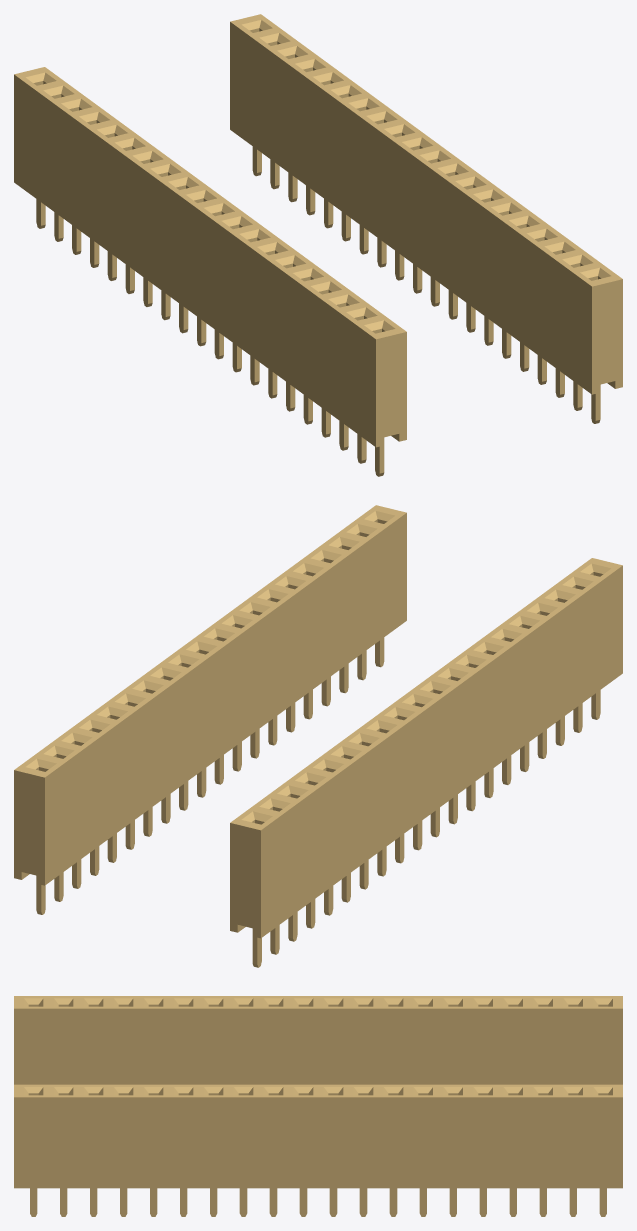
Rendered from kc-raspberrypi_pico_pinsockets_h8.50mm.glb.
3 views of the same model, one above another, from view 1: azimuth 30°, elevation 25°; view 2: azimuth 150°, elevation 25°; view 3: azimuth 270°, elevation 25° (orthographic). The views are drawn at different scales.
Visible parts, largest first — view 1: 0.75_0.5_0.25_0.9; view 2: 0.75_0.5_0.25_0.9; view 3: 0.75_0.5_0.25_0.9.
Boxes of the visible parts, box(x1,y1,x2,y2) form: 0.75_0.5_0.25_0.9: box(14, 14, 622, 476); 0.75_0.5_0.25_0.9: box(14, 505, 622, 967); 0.75_0.5_0.25_0.9: box(14, 996, 622, 1216).
Bounding box in the file's own units: 2.03 × 1.17 × 5.16.
